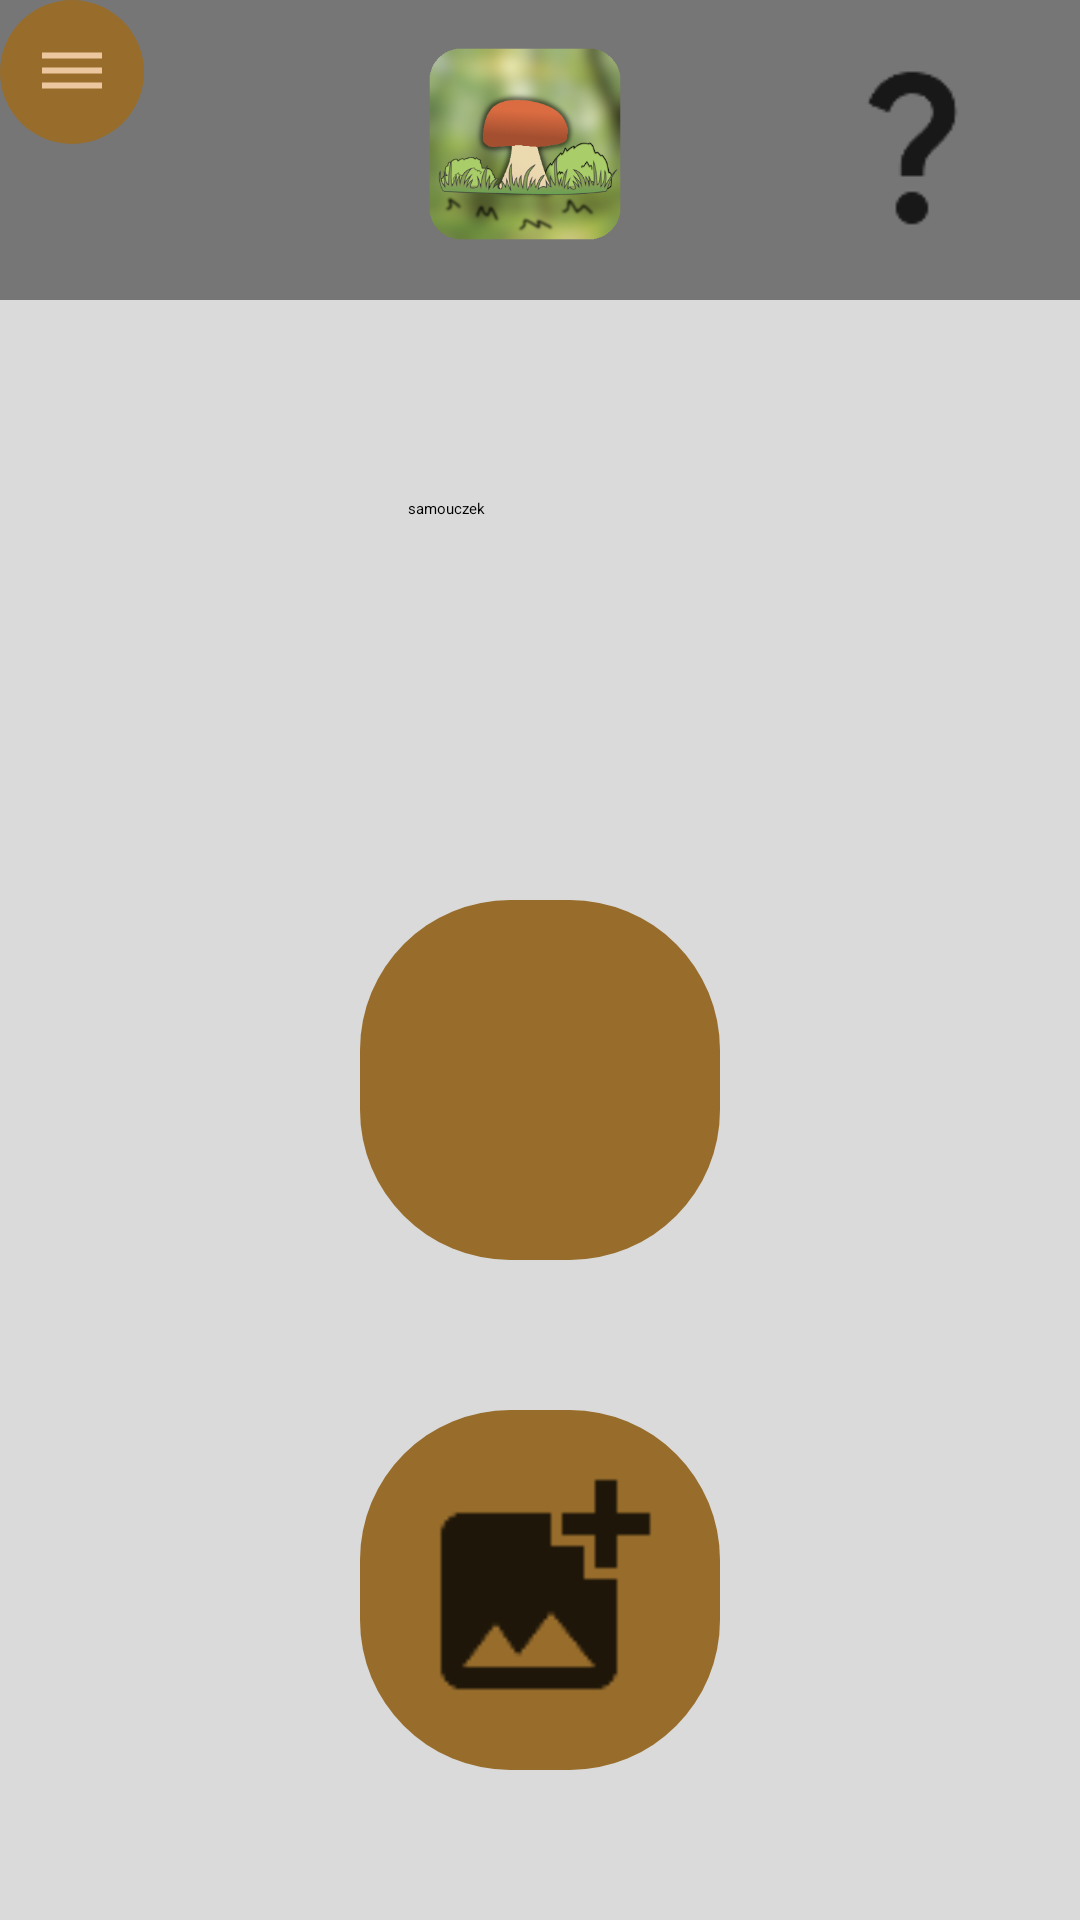

Point at icon controls on the screen. Image size 1080 × 1920, points as point (x, y).
Gallery Button: point (540, 1590)
quest: point (912, 148)
